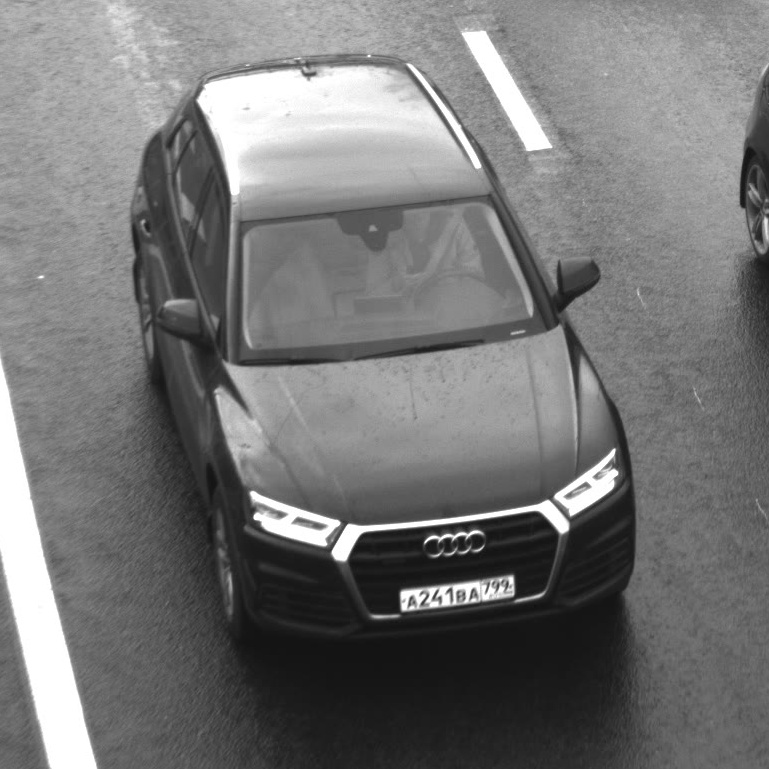plate: (387, 559, 522, 618)
